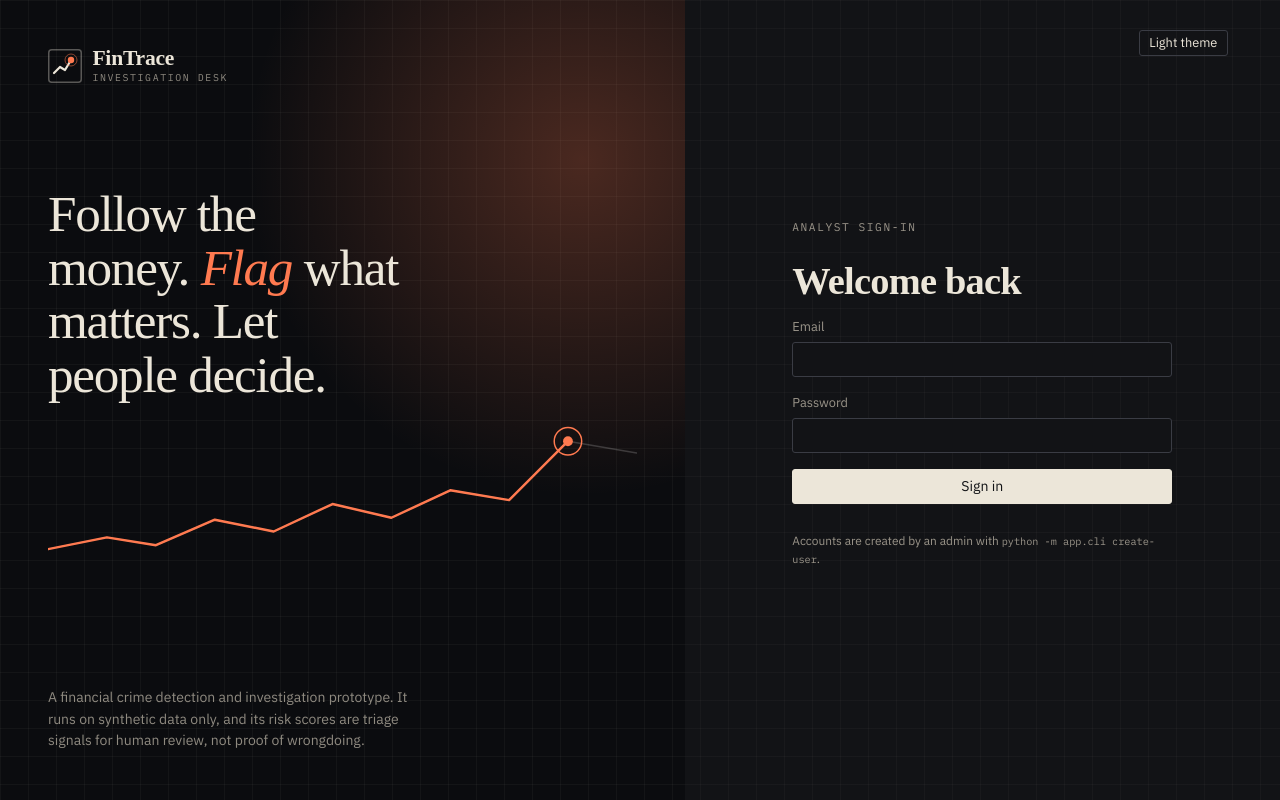
Scenario: login › signs in and lands on the page that was requested
Type "ana@example.com" into the field labelled "Email" at (982, 359), box x1=792 y1=342 x2=1172 y2=377
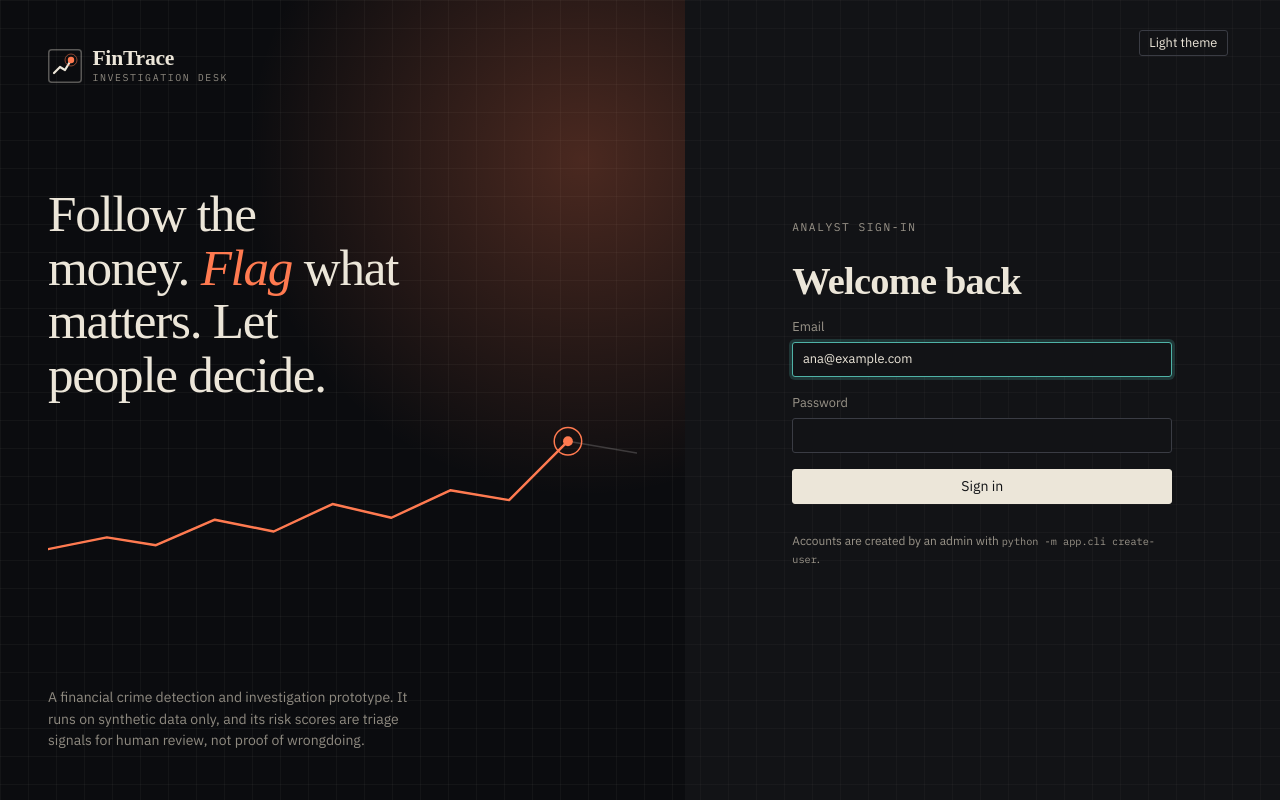
Type "right-password-123" into the password field labelled "Password" at (982, 435), box x1=792 y1=418 x2=1172 y2=453
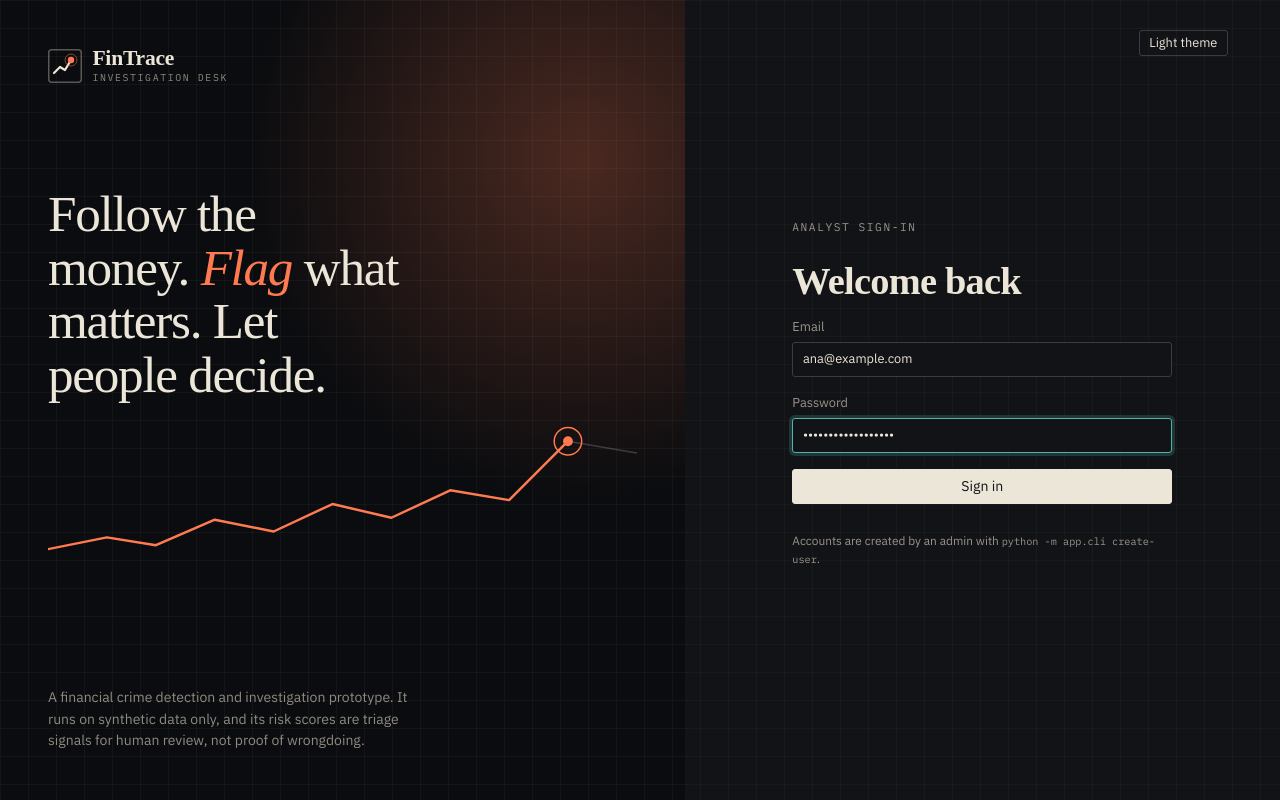
Click the button "Sign in" at (982, 486), box x1=792 y1=469 x2=1172 y2=504
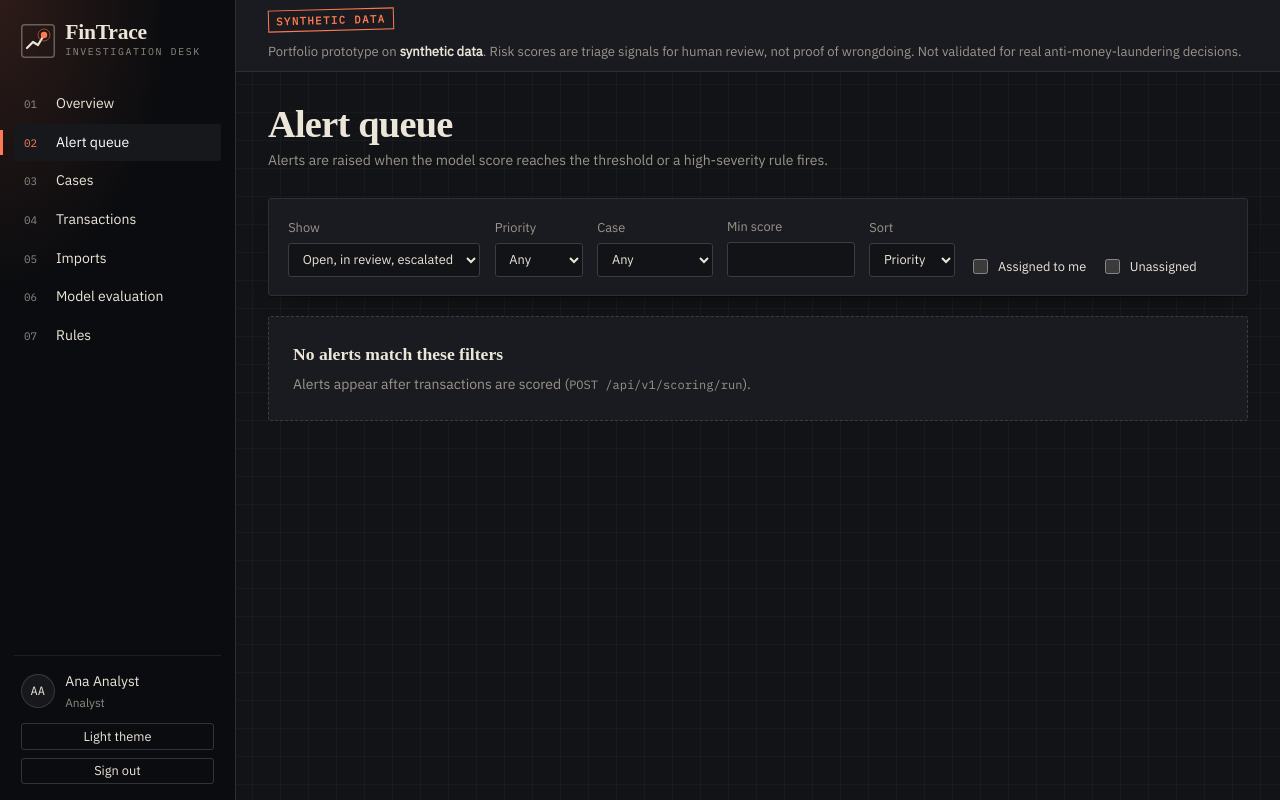
Check: the heading "Alert queue" is shown, box x1=268 y1=104 x2=452 y2=146
